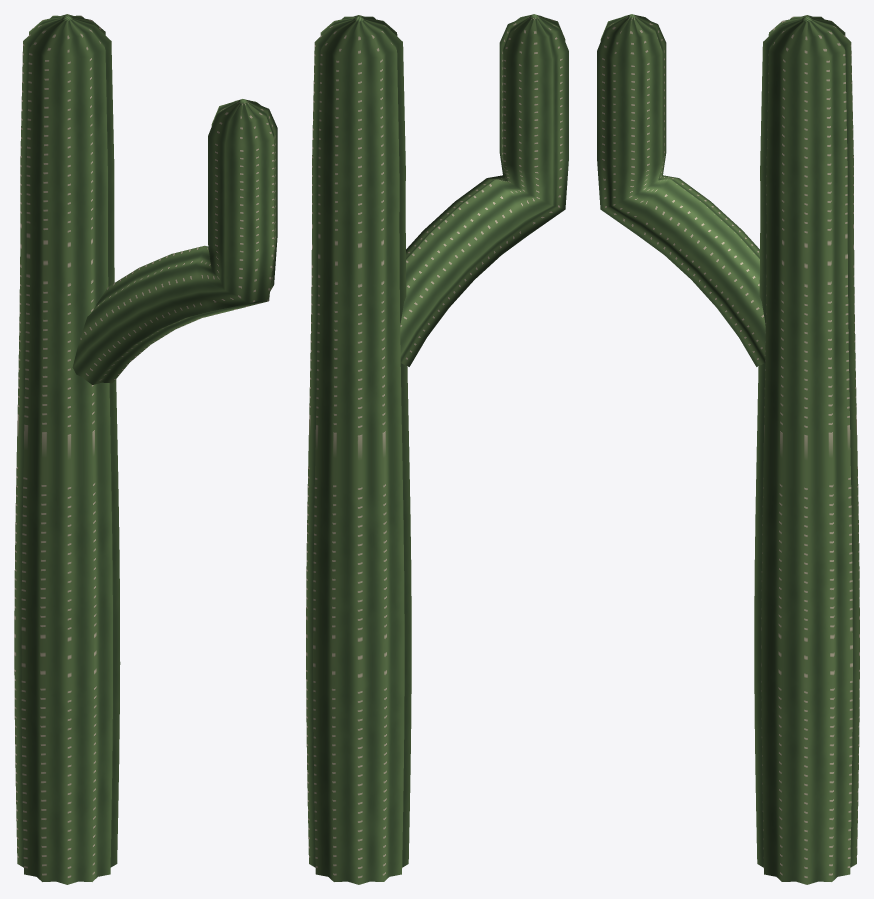
File: veg_saguaro_b.fbx
3 renders of one model, left to right at view 1: azimuth 90°, elevation 25°; view 2: azimuth 150°, elevation 25°; view 3: azimuth 270°, elevation 25°, orthographic.
Parts seen in each view (by area): view 1: veg_saguaro_b_LOD0; view 2: veg_saguaro_b_LOD0; view 3: veg_saguaro_b_LOD0.
Boxes of the visible parts, bbox=[...] form: veg_saguaro_b_LOD0: bbox=[14, 14, 277, 884]; veg_saguaro_b_LOD0: bbox=[306, 14, 568, 884]; veg_saguaro_b_LOD0: bbox=[597, 14, 859, 884].
Size of what is drawn, in the model's own units: 0.9722 by 4.82 by 1.35.
1 material, 1 textured.
